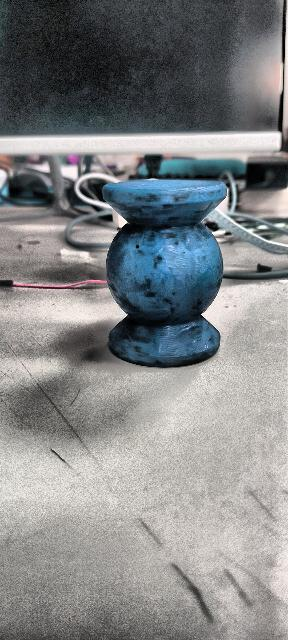blue: (102, 178, 228, 368)
